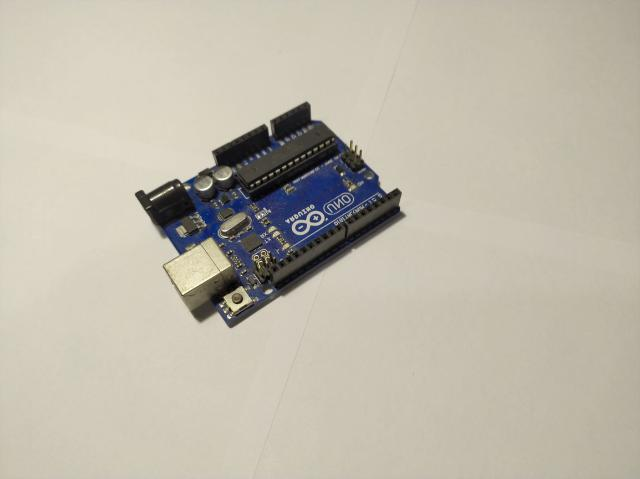arduino: (134, 101, 402, 326)
